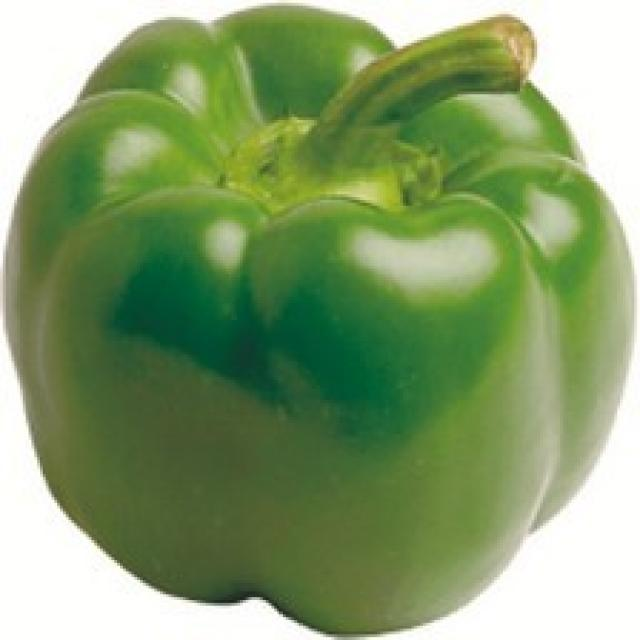Pepper: (0, 3, 636, 639)
